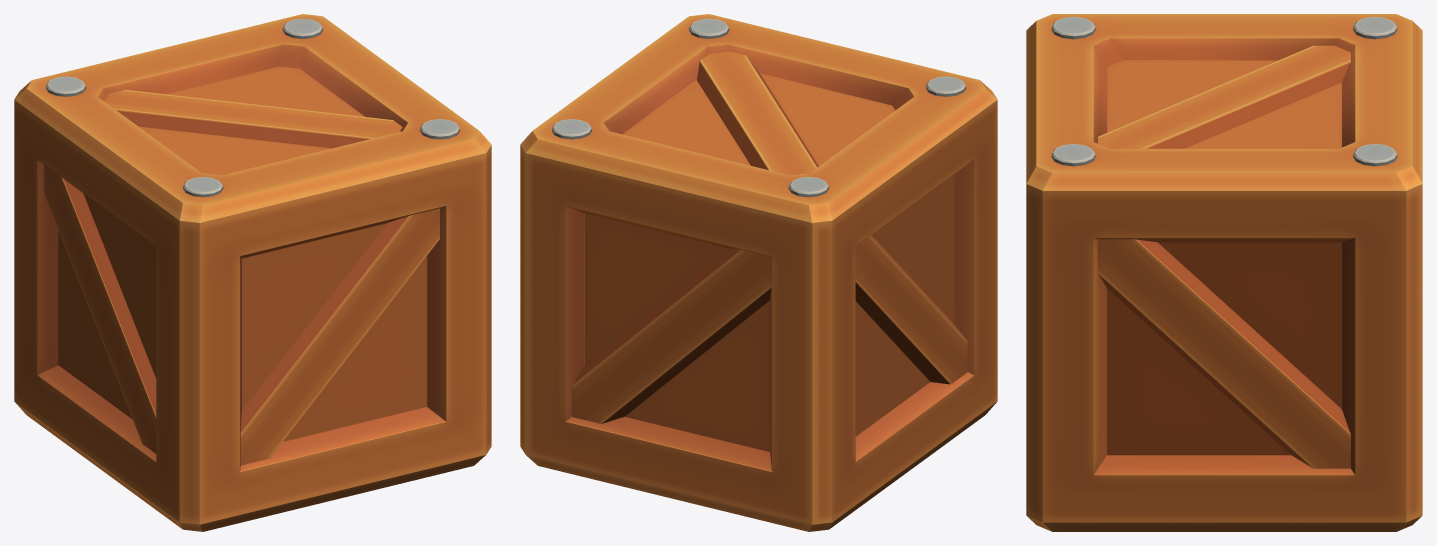
File: Assets_Box_fbx.fbx
3 views of the same model, side by side, from view 1: azimuth 30°, elevation 25°; view 2: azimuth 150°, elevation 25°; view 3: azimuth 270°, elevation 25° (orthographic). The views are drawn at different scales.
Parts seen in each view (by area): view 1: Assets_Box_mesh; view 2: Assets_Box_mesh; view 3: Assets_Box_mesh.
Boxes of the visible parts, <box> form: Assets_Box_mesh: <box>14,14,491,531</box>; Assets_Box_mesh: <box>520,14,997,531</box>; Assets_Box_mesh: <box>1026,14,1422,531</box>.
Bounding box in the file's own units: 14.74 × 14.93 × 14.74.
Materials: 1 (1 with a texture image).
